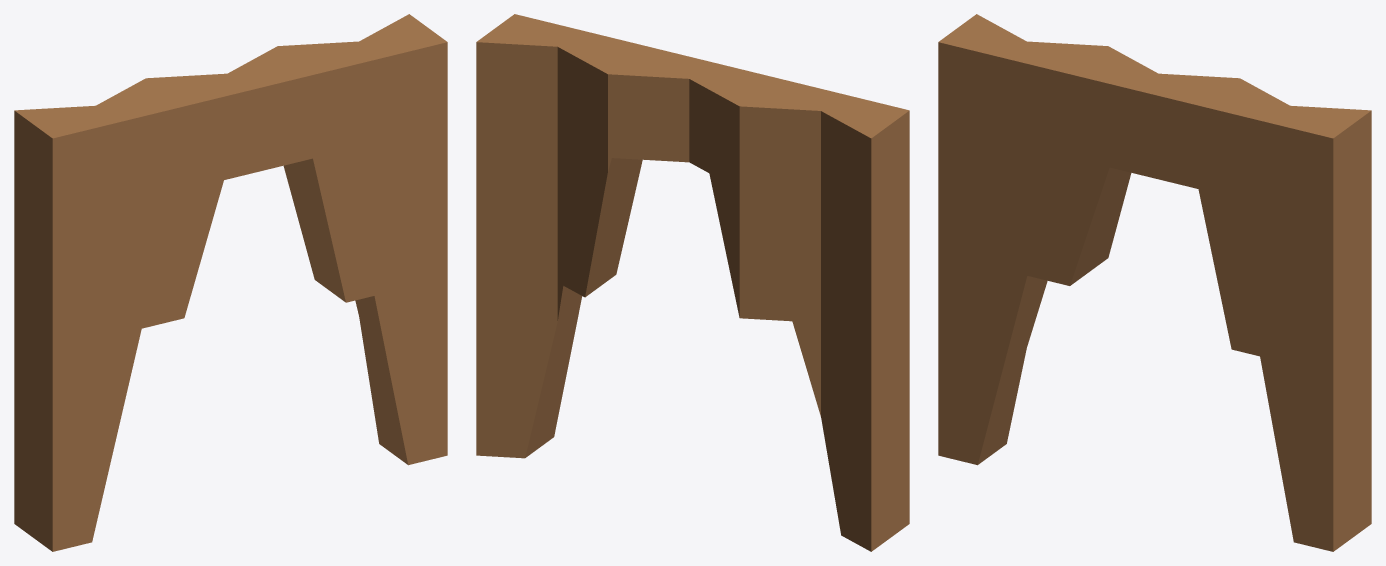
Rendered from cliff_cave_rock.glb.
3 views of the same model, side by side, from view 1: azimuth 30°, elevation 25°; view 2: azimuth 150°, elevation 25°; view 3: azimuth 330°, elevation 25° (orthographic).
Parts seen in each view (by area): view 1: cliff_cave_rock; view 2: cliff_cave_rock; view 3: cliff_cave_rock.
Part boxes in pixels (box(x1,y1,x2,y2)): cliff_cave_rock: box(14, 14, 447, 551); cliff_cave_rock: box(476, 14, 909, 551); cliff_cave_rock: box(938, 14, 1371, 551).
Size of the model in its own units: 1 by 1 by 0.1685.
